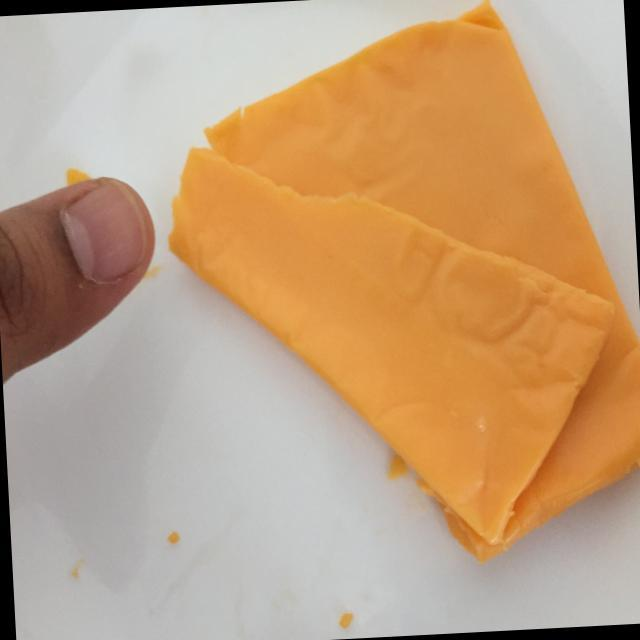Cheese: (139, 0, 640, 586)
Finger: (0, 158, 167, 399)
